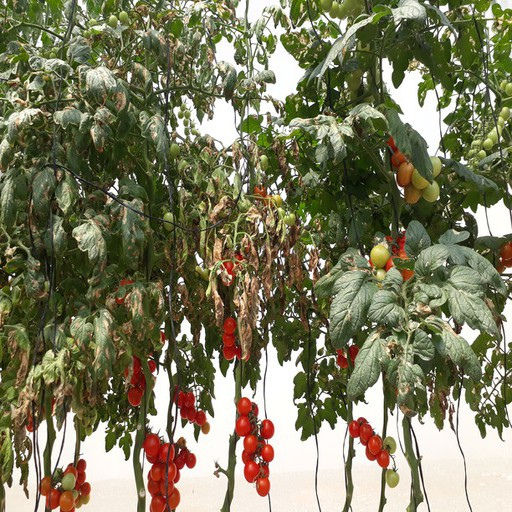dry leaves: (192, 174, 326, 340)
green tomato bunch: (461, 107, 510, 170), (264, 189, 296, 229)
mixed tomato bunch: (388, 134, 442, 203), (38, 455, 88, 512)
red tomato bunch: (237, 396, 271, 496), (121, 330, 166, 405), (140, 434, 178, 512), (346, 416, 390, 469), (376, 229, 418, 281), (170, 385, 210, 436), (221, 318, 251, 361), (330, 340, 366, 370), (215, 250, 246, 284), (488, 237, 512, 272)
